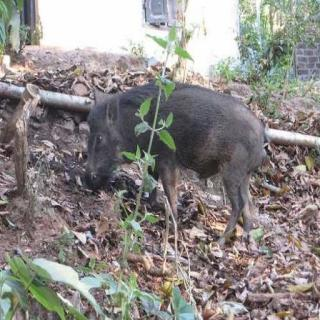Pig: (67, 63, 292, 270)
